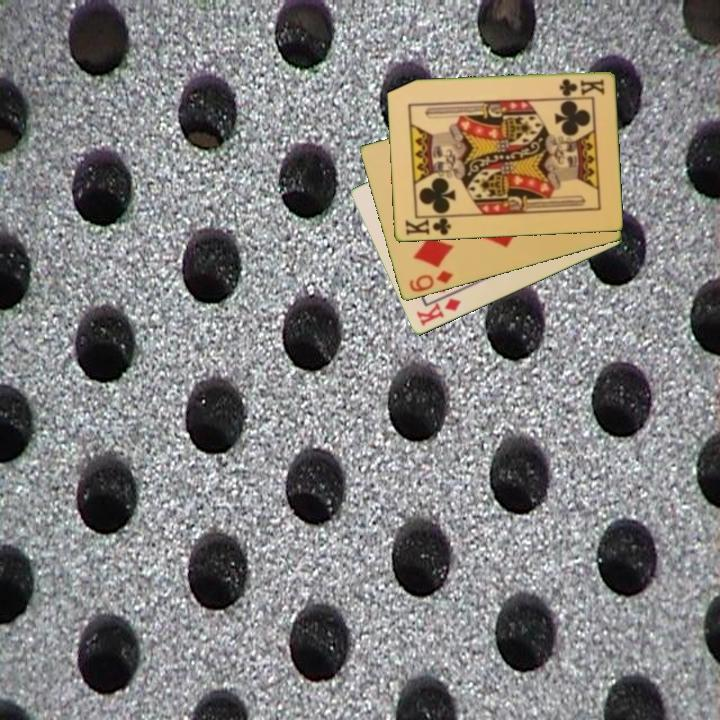6d: (405, 267, 456, 295)
Kc: (401, 213, 455, 238), (556, 76, 607, 98)
Kd: (412, 295, 464, 329)
